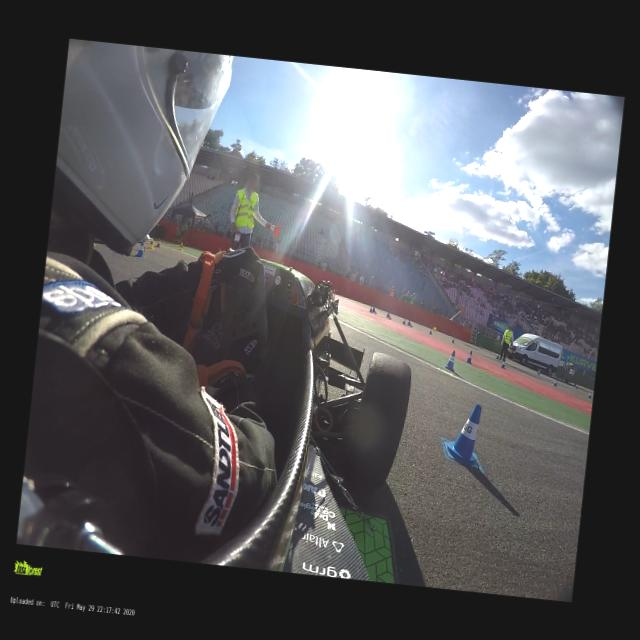blue_cone: (446, 400, 486, 464), (444, 350, 456, 372), (465, 350, 473, 364), (136, 242, 144, 256), (334, 298, 339, 314), (500, 359, 506, 368), (586, 391, 592, 398), (450, 336, 455, 344), (407, 320, 412, 328), (368, 303, 372, 312), (386, 312, 392, 318), (372, 307, 377, 313), (553, 379, 557, 386), (494, 352, 498, 358), (428, 328, 432, 334), (574, 382, 578, 388), (402, 318, 406, 324), (537, 369, 540, 374)
orange_cone: (142, 240, 146, 250), (156, 238, 160, 247)
yellow_cone: (148, 238, 154, 248), (178, 242, 183, 250), (432, 326, 436, 331)
